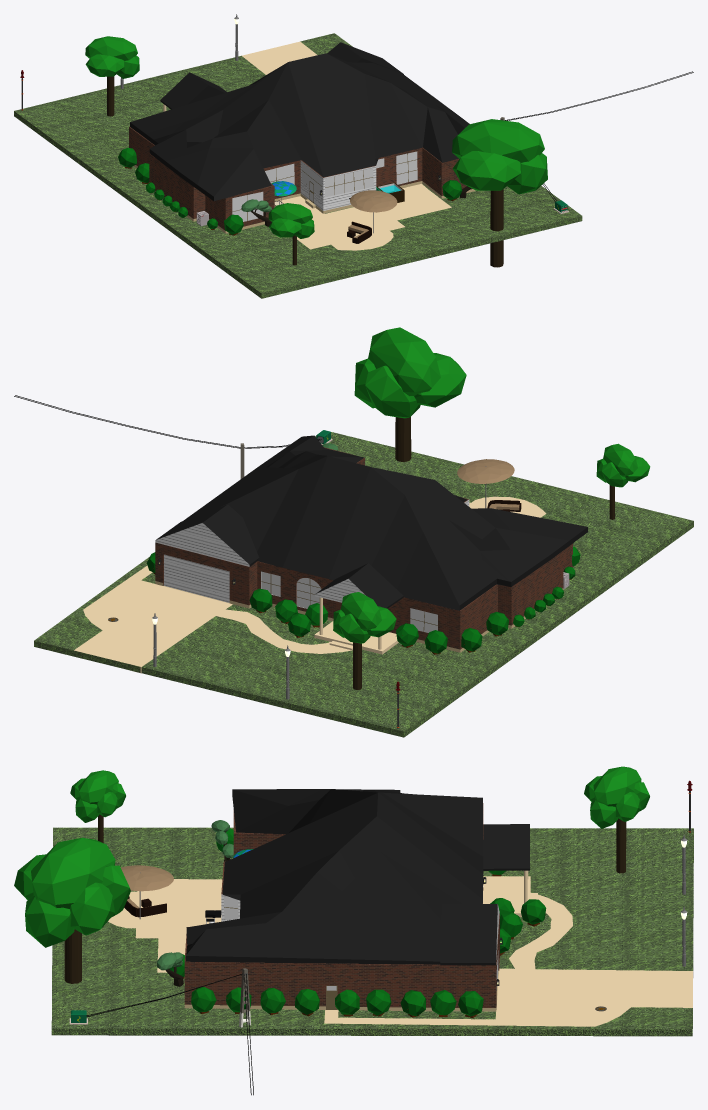
The model's file is Tipp.glb.
The picture shows the model from 3 angles, top to bottom: view 1: azimuth 30°, elevation 25°; view 2: azimuth 150°, elevation 25°; view 3: azimuth 270°, elevation 25°; orthographic projection. The views are drawn at different scales.
Visible parts, largest first — view 1: Roof, Ground.001, Building, Leaves, Concrete, Shrubs, Trunk, Umbrella1.001, Tree4; view 2: Ground.001, Roof, Leaves, Building, Concrete, Shrubs, Garage Door, Windows, Trunk, Umbrella1.001, LV Wires.006; view 3: Ground.001, Roof, Concrete, Leaves, Building, Shrubs, Trunk, Umbrella1.001, Tree4, LV Wires.006.
Part boxes in pixels (bbox=[...]): Roof: bbox=[130, 42, 469, 201]; Ground.001: bbox=[14, 33, 582, 298]; Building: bbox=[129, 126, 476, 233]; Leaves: bbox=[85, 36, 547, 238]; Concrete: bbox=[242, 42, 451, 250]; Shrubs: bbox=[118, 147, 462, 235]; Trunk: bbox=[107, 76, 503, 267]; Umbrella1.001: bbox=[350, 190, 397, 233]; Tree4: bbox=[241, 180, 471, 226]; Ground.001: bbox=[34, 432, 693, 737]; Roof: bbox=[155, 435, 587, 610]; Leaves: bbox=[333, 327, 650, 643]; Building: bbox=[155, 447, 572, 654]; Concrete: bbox=[75, 496, 546, 673]; Shrubs: bbox=[147, 546, 580, 654]; Garage Door: bbox=[164, 554, 229, 602]; Windows: bbox=[261, 571, 437, 632]; Trunk: bbox=[353, 417, 614, 689]; Umbrella1.001: bbox=[457, 459, 514, 508]; LV Wires.006: bbox=[14, 395, 321, 448]; Ground.001: bbox=[51, 827, 693, 1036]; Roof: bbox=[185, 789, 529, 965]; Concrete: bbox=[108, 879, 693, 1026]; Leaves: bbox=[14, 766, 649, 947]; Building: bbox=[184, 803, 537, 1011]; Shrubs: bbox=[169, 828, 546, 1017]; Trunk: bbox=[64, 814, 626, 983]; Umbrella1.001: bbox=[121, 865, 173, 919]; Tree4: bbox=[156, 820, 233, 986]; LV Wires.006: bbox=[86, 973, 253, 1095].
Bounding box in the file's own units: 58.86 × 15.7 × 52.89.
54 materials, 3 textured.
